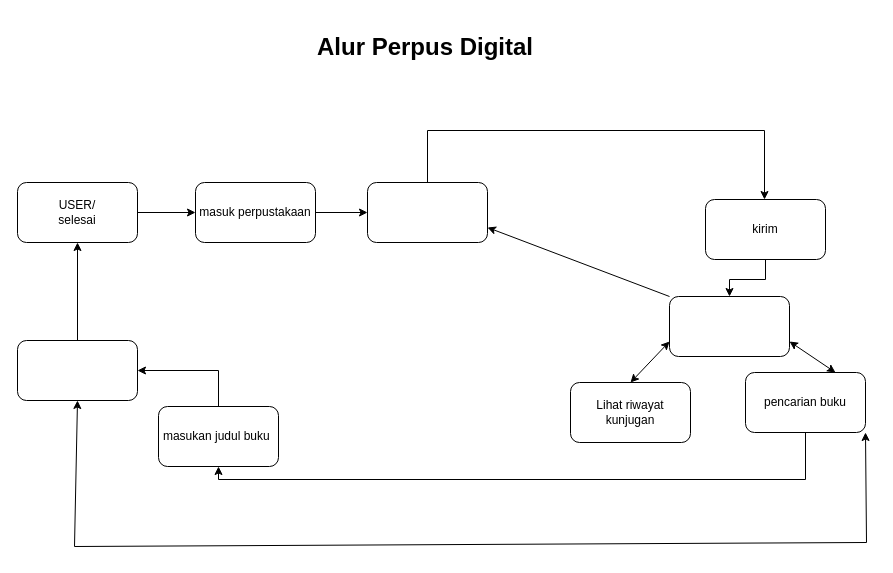
This 893x573 diagram has some shape labels left out. Here are the shapes that lost their labels. From the top down, the centre of each, then its label:
At point (427, 212): "mengisi form kunjungan".
At point (729, 326): "Home page".
At point (77, 370): "Hasil pencarian/ rincian buku".
